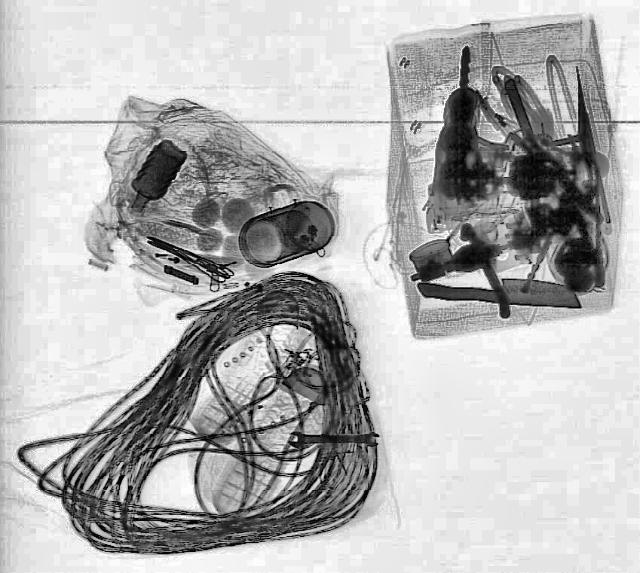Wrench: (290, 430, 380, 448)
